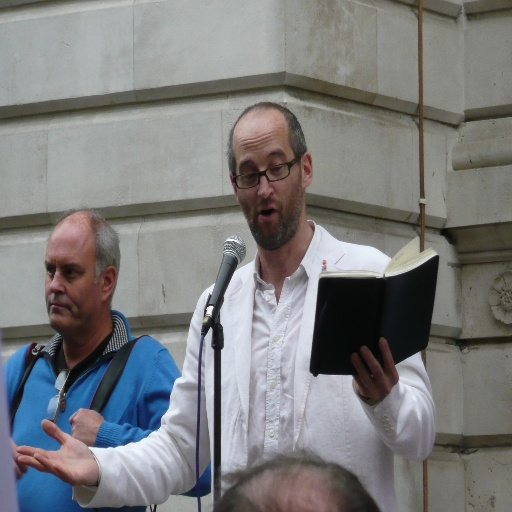hand: (26, 406, 116, 492), (349, 336, 399, 407), (67, 404, 106, 448), (9, 438, 29, 480)
